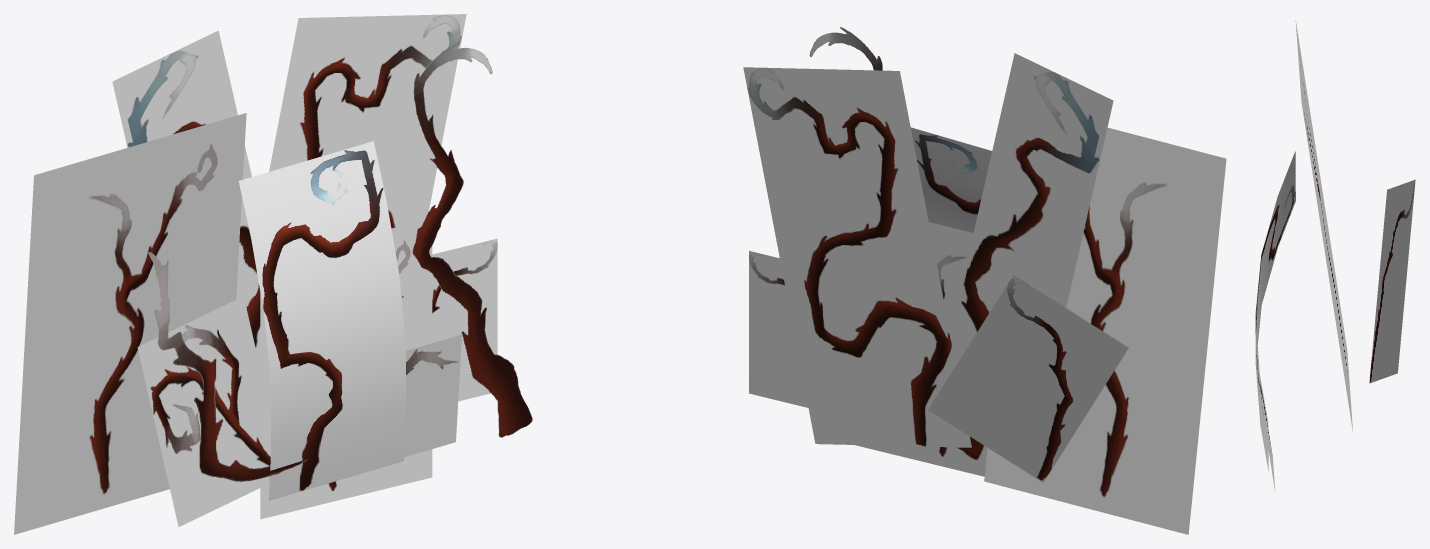
The model's file is Spiky_bush_1.fbx.
The picture shows the model from 3 angles, left to right: view 1: azimuth 30°, elevation 25°; view 2: azimuth 150°, elevation 25°; view 3: azimuth 270°, elevation 25°; orthographic projection. The views are drawn at different scales.
Visible parts, largest first — view 1: Plane_5; view 2: Plane_5; view 3: Plane_5.
Boxes of the visible parts, x1=… form: Plane_5: x1=14, y1=14, x2=532, y2=534; Plane_5: x1=743, y1=27, x2=1226, y2=534; Plane_5: x1=1255, y1=20, x2=1415, y2=491.
Size of the model in its own units: 915 by 698 by 247.
